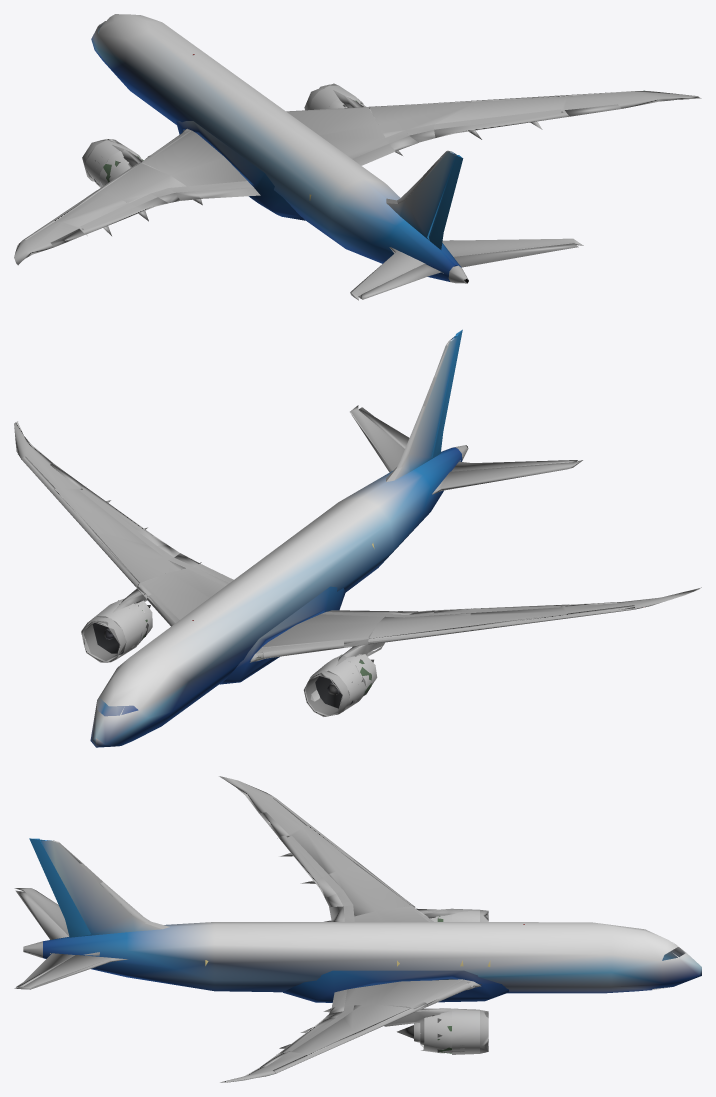
3 renders of one model, top to bottom at view 1: azimuth 30°, elevation 25°; view 2: azimuth 150°, elevation 25°; view 3: azimuth 270°, elevation 25°, orthographic. The views are drawn at different scales.
Size of the model in its own units: 59.6 by 14.91 by 56.53.
